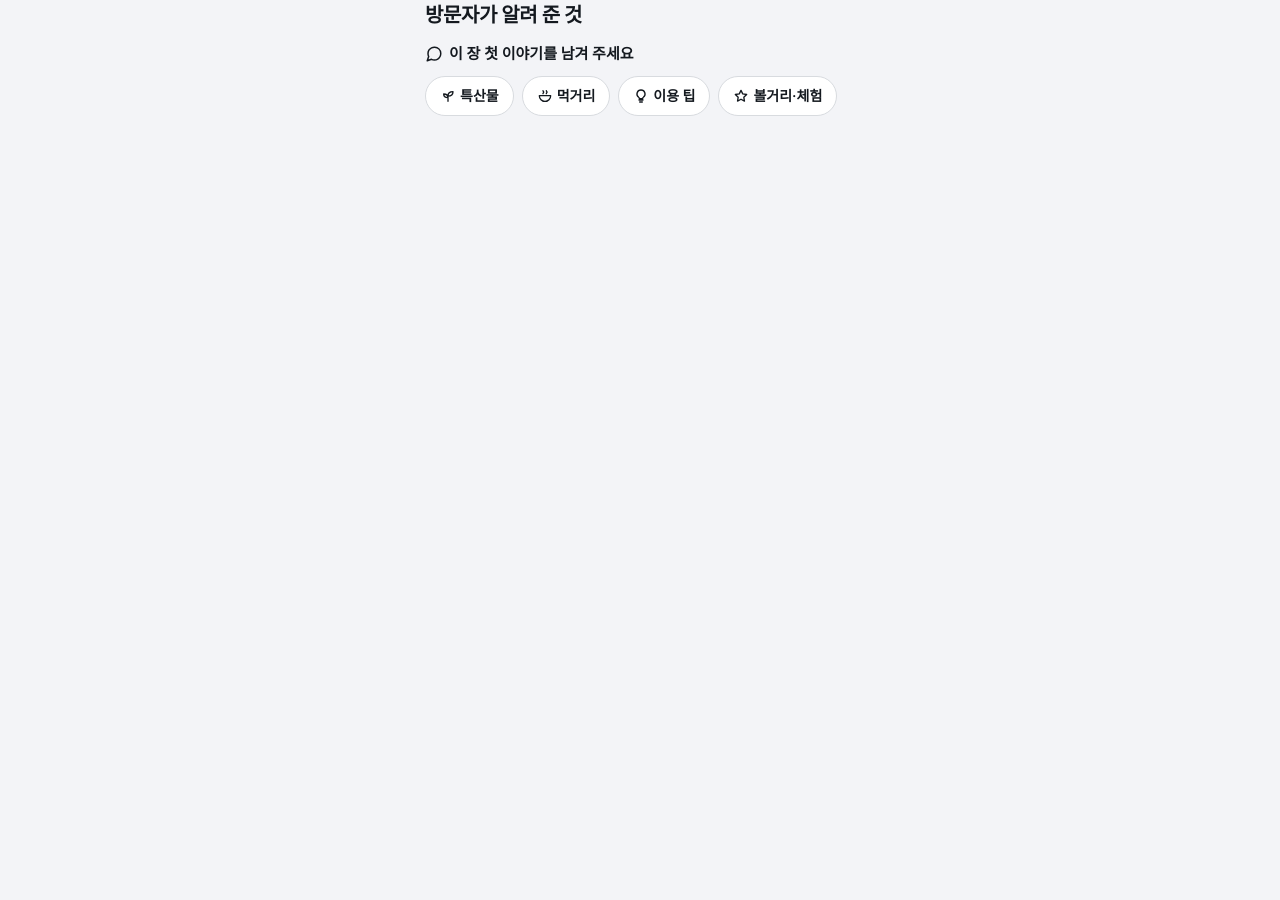
MarketHighlights › invites the first story and opens the sheet with the tapped category already chosen
Check: the text "이 장 첫 이야기를 남겨 주세요" is shown, box x1=425 y1=44 x2=634 y2=63
Click the button with aria-label "먹거리 알려 주기" at (566,96), box x1=522 y1=76 x2=610 y2=116
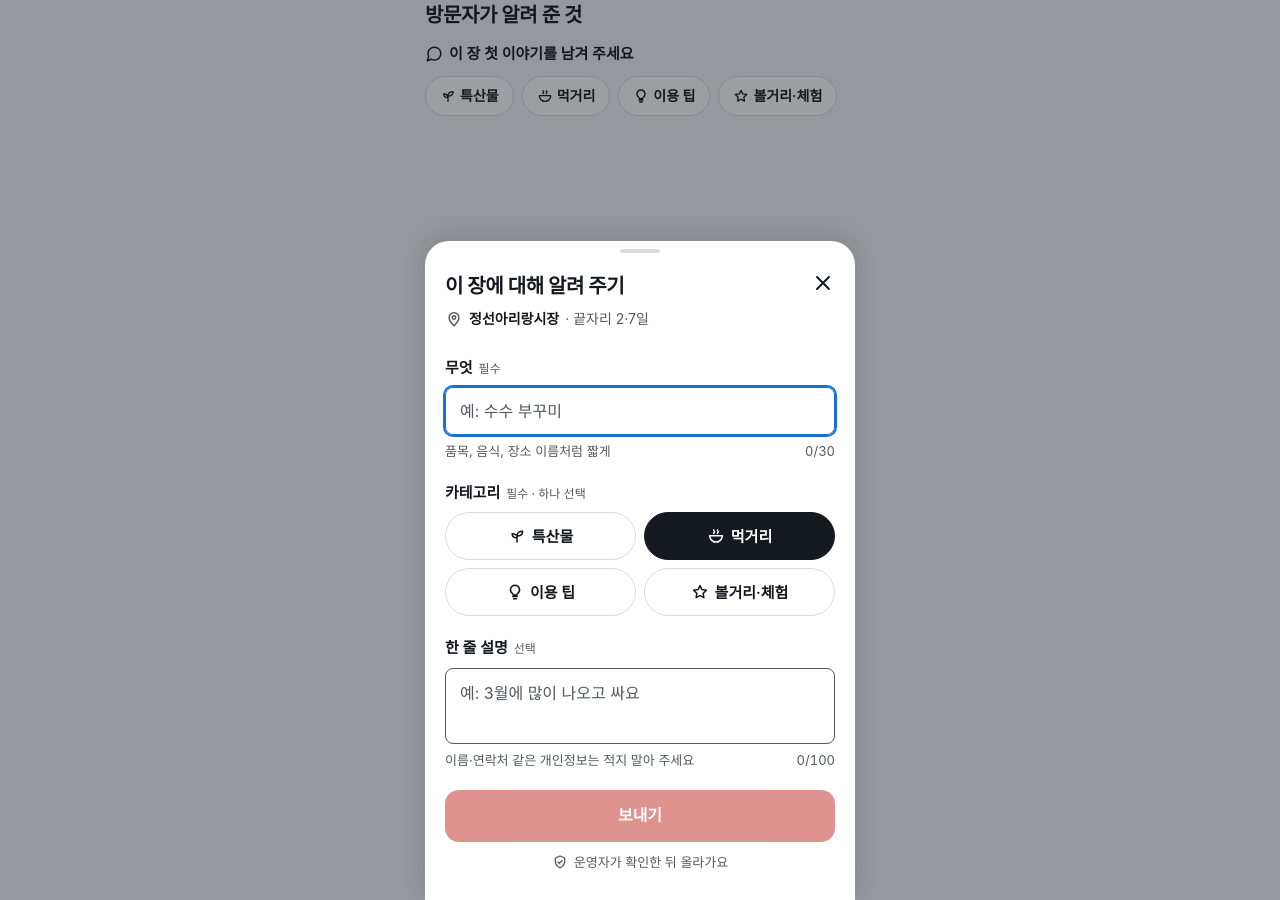
Type "수수 부꾸미" into the field labelled "무엇 필수" at (640,411), box x1=445 y1=387 x2=835 y2=435
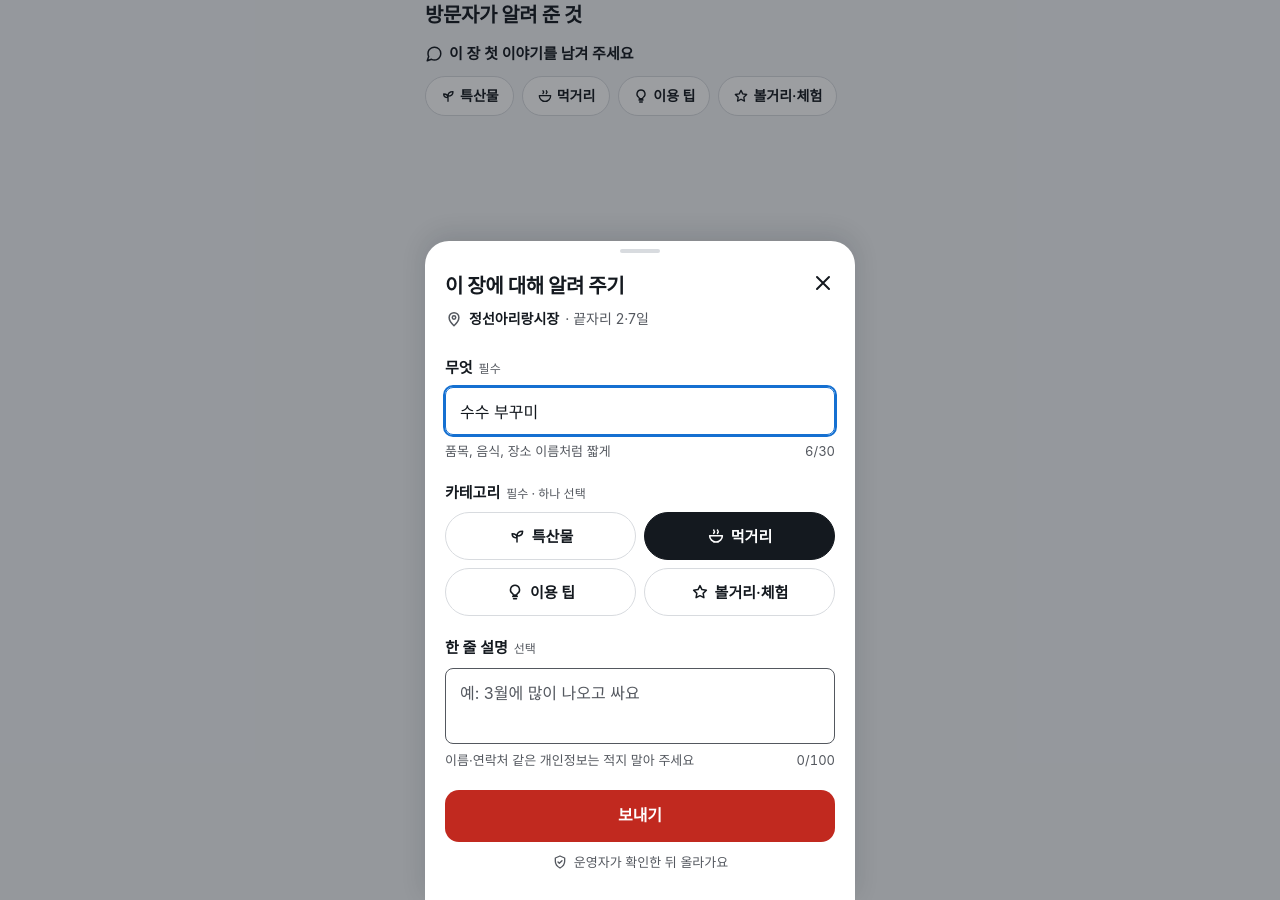
Check: the button "보내기" is enabled, box x1=445 y1=790 x2=835 y2=842
Press Escape
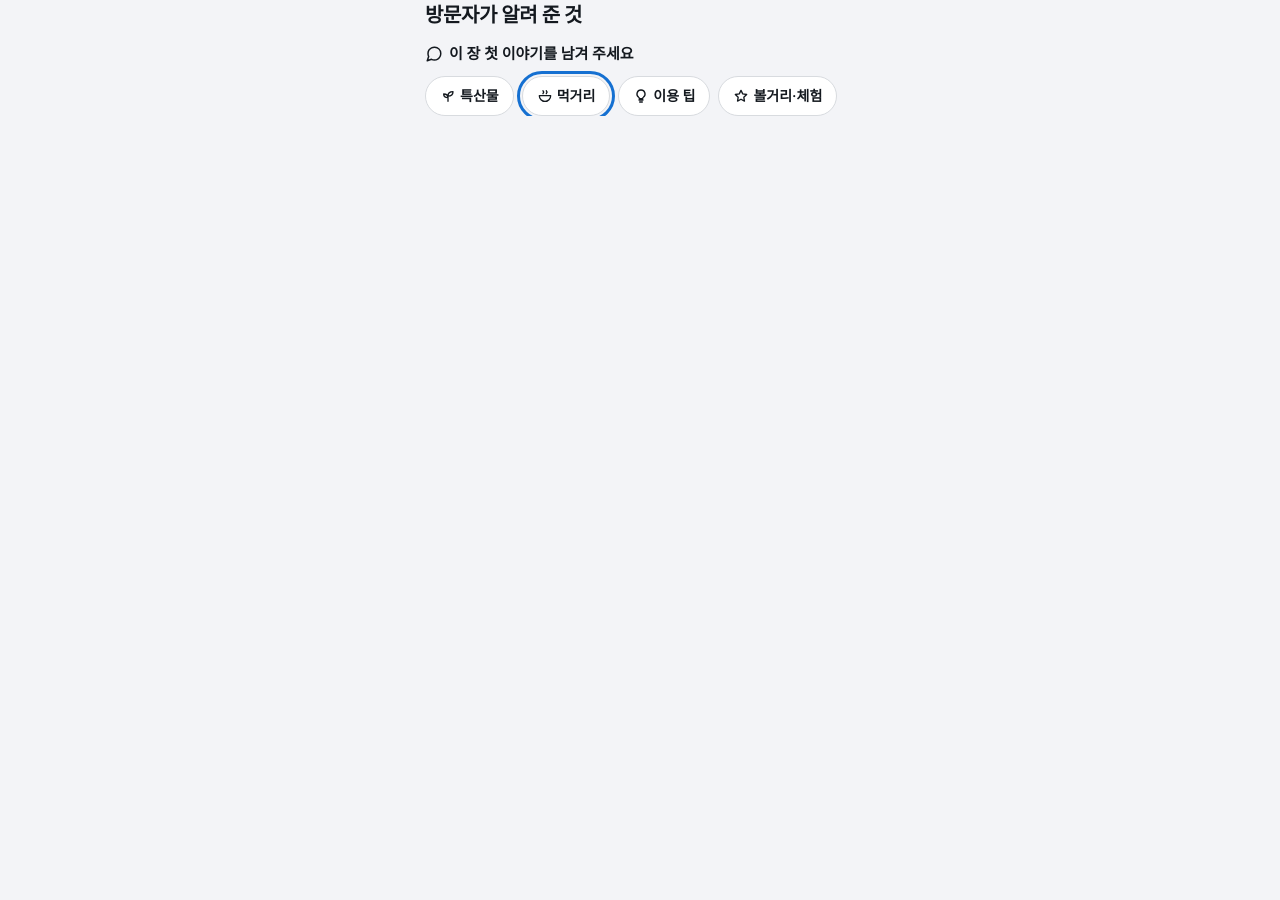
Check: the dialog is gone
